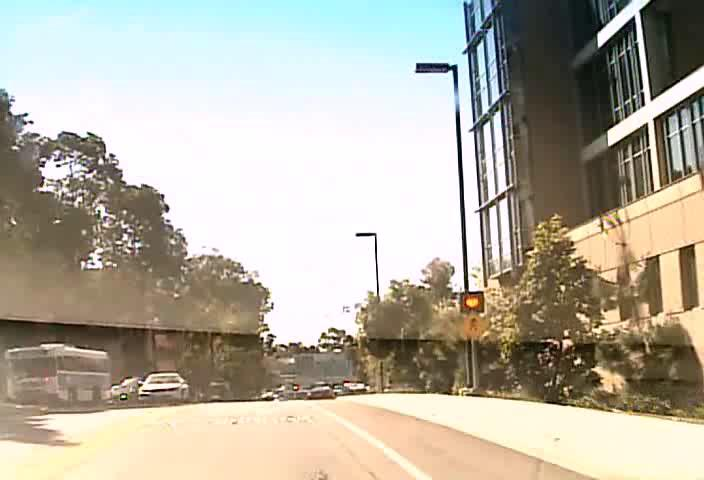pedestrianCrossing: (459, 311, 488, 339)
